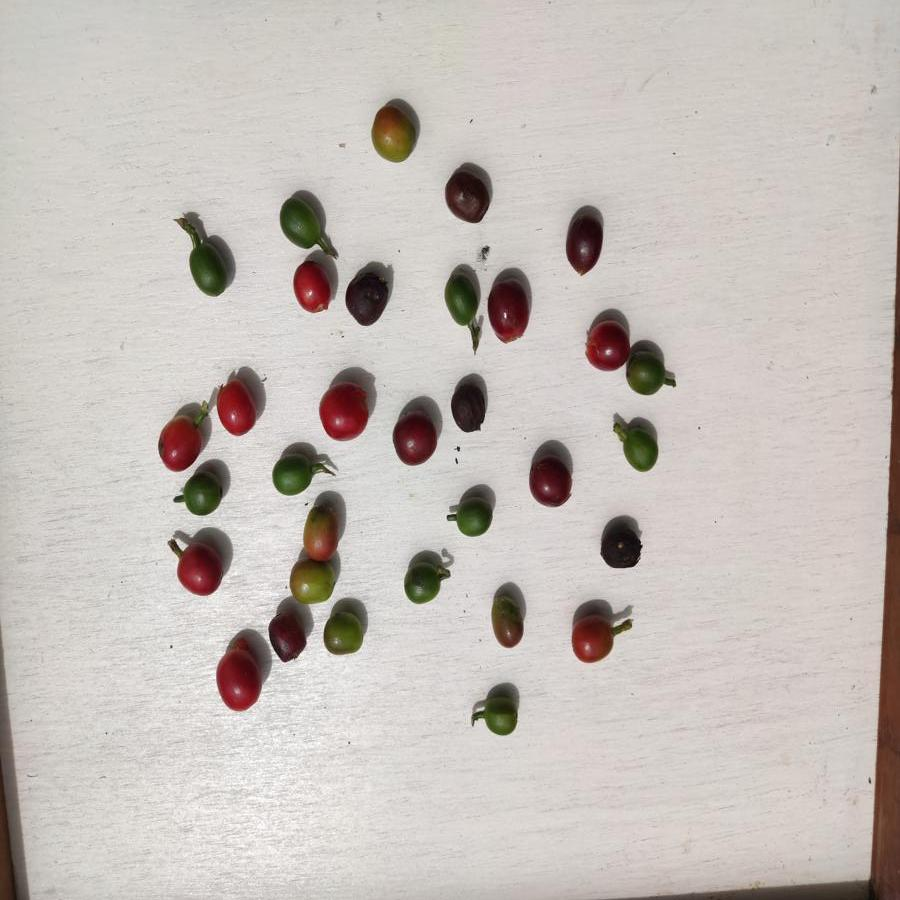Inmaduro: (279, 195, 325, 249), (187, 240, 228, 298), (269, 450, 313, 497), (479, 694, 523, 738), (402, 560, 445, 605), (180, 471, 223, 516), (626, 351, 667, 396), (621, 428, 658, 476), (446, 271, 477, 328), (450, 495, 491, 537)
Maduro: (215, 639, 263, 714), (320, 381, 371, 442), (171, 543, 228, 596), (215, 379, 258, 435), (292, 258, 332, 318), (157, 417, 201, 471), (571, 615, 613, 667)
Pinton: (370, 103, 413, 162), (302, 503, 343, 561), (287, 558, 336, 605), (490, 591, 527, 650), (324, 610, 365, 658)
Sobremaduro: (487, 279, 530, 342), (391, 408, 437, 465), (345, 269, 391, 324), (445, 166, 489, 223), (527, 454, 574, 507), (565, 215, 605, 276), (583, 319, 627, 372), (597, 524, 643, 568), (449, 380, 487, 433), (267, 613, 307, 658)
